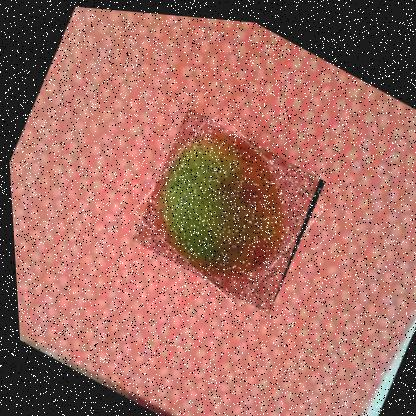mango: (122, 98, 330, 314)
